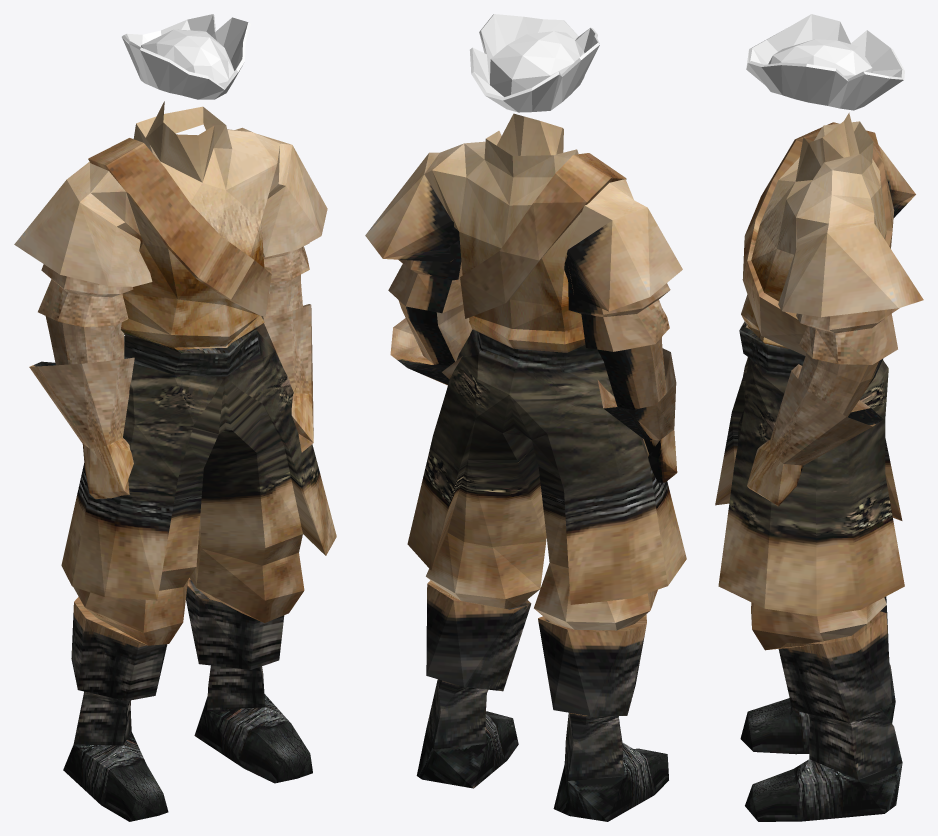
File: Armor_PIR_H_Addon.glb
The picture shows the model from 3 angles, left to right: view 1: azimuth 30°, elevation 25°; view 2: azimuth 150°, elevation 25°; view 3: azimuth 270°, elevation 25°; orthographic projection.
Parts seen in each view (by area): view 1: Armor_PIR_H_Addonzm_body; view 2: Armor_PIR_H_Addonzm_body; view 3: Armor_PIR_H_Addonzm_body.
Boxes of the visible parts, x1,y1,x2,y2 form: Armor_PIR_H_Addonzm_body: [14, 14, 336, 821]; Armor_PIR_H_Addonzm_body: [365, 14, 686, 821]; Armor_PIR_H_Addonzm_body: [715, 14, 923, 821].
Size of the model in its own units: 0.7425 by 1.88 by 0.4803.
3 materials, 2 textured.
